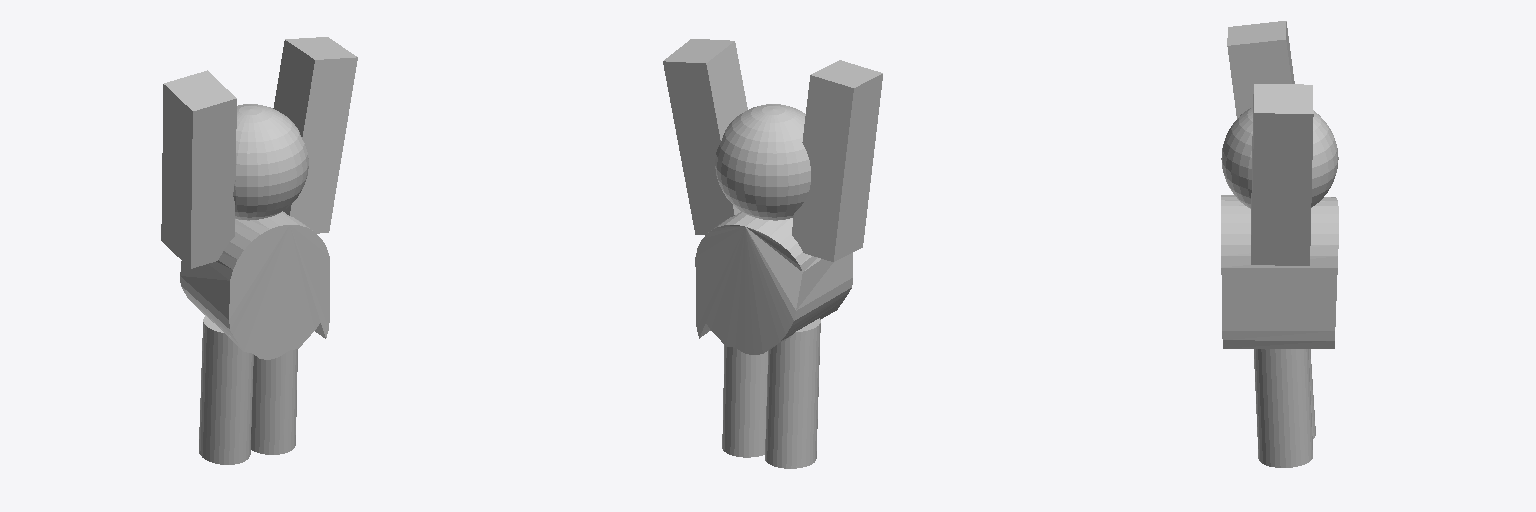
File: Figurine162.obj
3 views of the same model, side by side, from view 1: azimuth 30°, elevation 25°; view 2: azimuth 150°, elevation 25°; view 3: azimuth 270°, elevation 25° (orthographic).
Parts seen in each view (by area): view 1: Cylinder; view 2: Cylinder; view 3: Cylinder.
Boxes of the visible parts, <box> form: Cylinder: <box>161,37,357,464</box>; Cylinder: <box>663,39,882,468</box>; Cylinder: <box>1221,21,1338,467</box>.
Bounding box in the file's own units: 3.52 × 7.32 × 2.